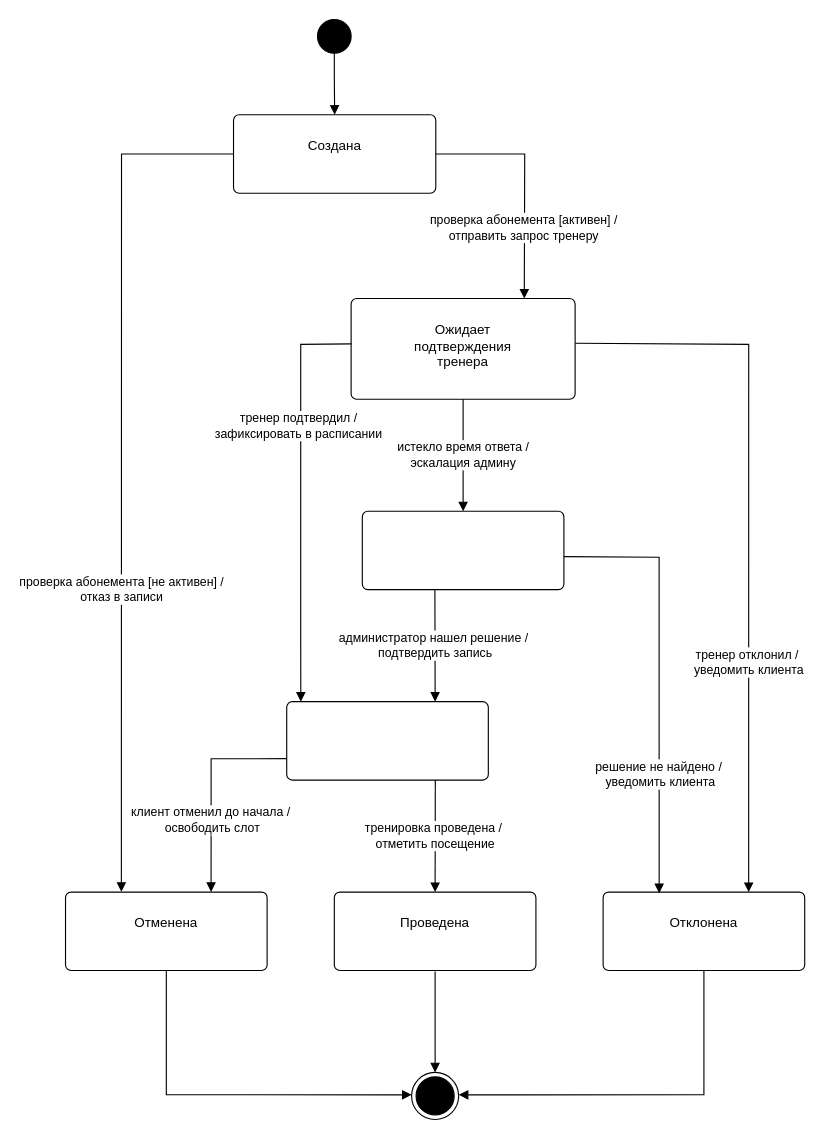
Image size: 824x1139. Some labels were removed from this diagram. The box of each missing label's shape, as (x1, y1, x2, y2) in pixels:
Подтверждена: (286, 701, 488, 780)
Проблемная: (361, 510, 564, 590)
